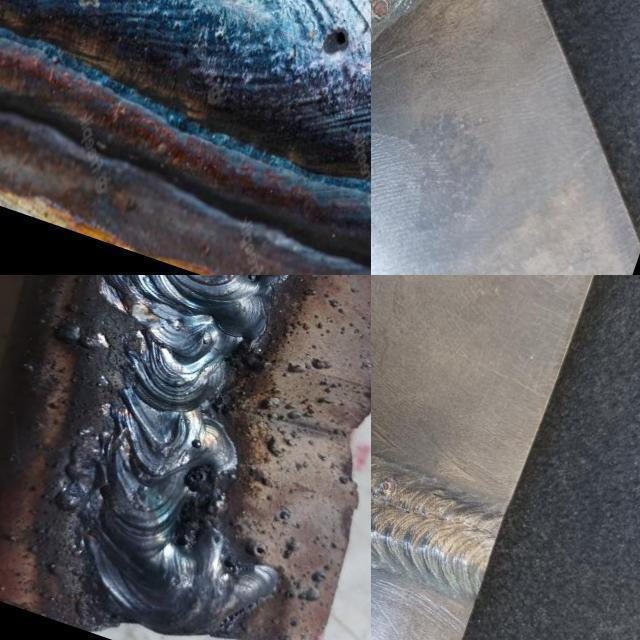defect: (316, 22, 357, 61), (179, 460, 214, 493), (376, 474, 395, 499), (371, 0, 392, 20), (171, 532, 192, 550)
